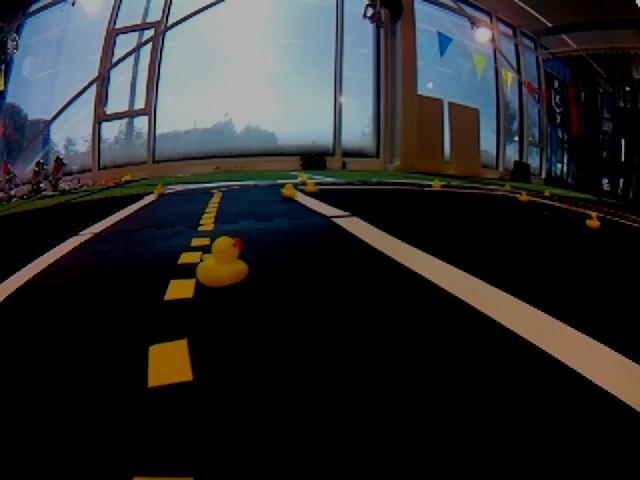Duckies: (195, 236, 249, 292), (280, 182, 299, 199), (586, 213, 600, 228), (304, 182, 319, 192), (154, 184, 165, 195), (517, 192, 528, 201), (432, 180, 441, 189), (298, 174, 307, 181), (542, 192, 550, 198), (504, 184, 511, 189)
